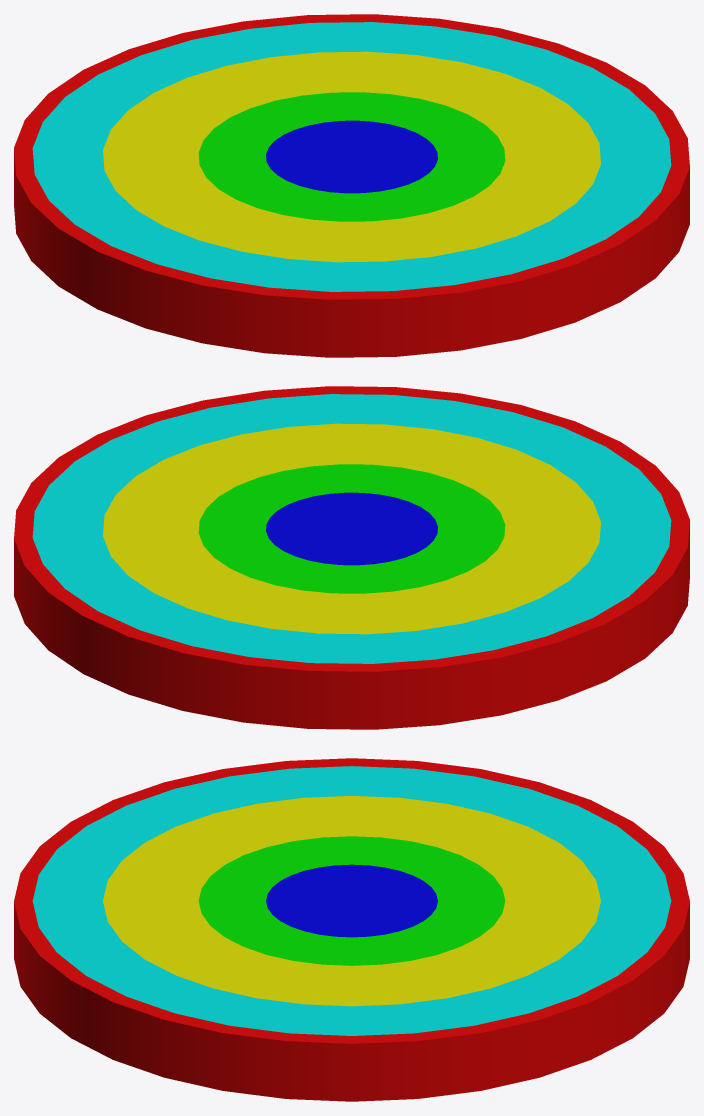
Rendered from targetModel.fbx.
The picture shows the model from 3 angles, top to bottom: view 1: azimuth 30°, elevation 25°; view 2: azimuth 150°, elevation 25°; view 3: azimuth 270°, elevation 25°; orthographic projection.
Visible parts, largest first — view 1: Cylinder; view 2: Cylinder; view 3: Cylinder.
Boxes of the visible parts, <box> form: Cylinder: <box>14,14,689,357</box>; Cylinder: <box>14,386,689,729</box>; Cylinder: <box>14,758,689,1101</box>.
Size of the model in its own units: 247 by 247 by 23.29.
